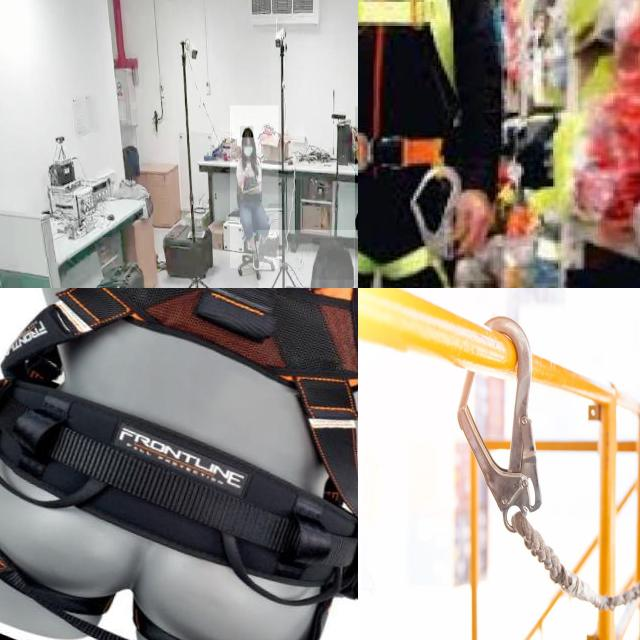Harness: (0, 288, 358, 640), (358, 0, 474, 279)
head_nohelmet: (312, 238, 354, 280), (240, 126, 254, 138)
person: (230, 105, 279, 269)
